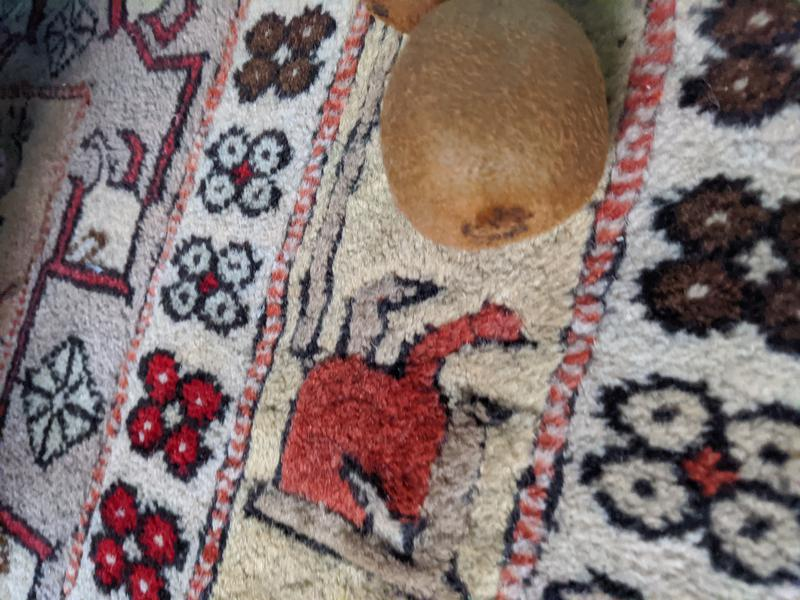kiwi: (377, 1, 611, 252)
